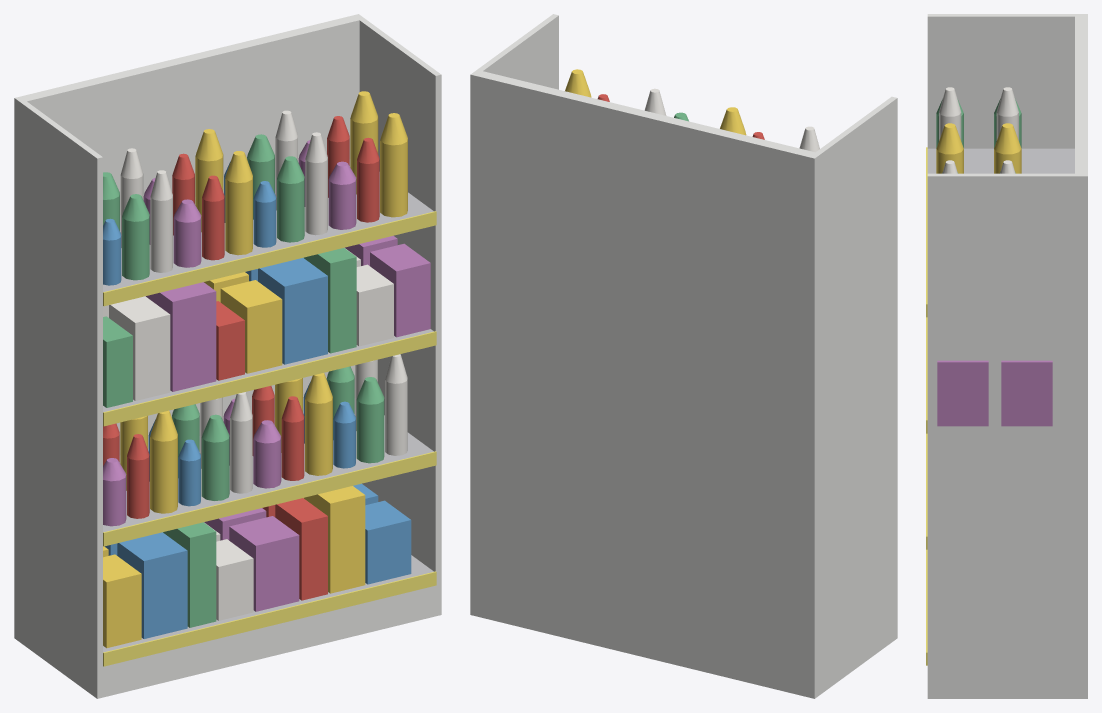
The model's file is gondola.glb.
3 renders of one model, left to right at view 1: azimuth 30°, elevation 25°; view 2: azimuth 150°, elevation 25°; view 3: azimuth 270°, elevation 25°, orthographic. The views are drawn at different scales.
Parts seen in each view (by area): view 1: tint_body, prod_1, prod_5, prod_3, prod_4, tint_strip, prod_2, prod_0, metal; view 2: tint_body, prod_1, prod_4; view 3: tint_body, prod_5, metal, prod_1, prod_4, tint_strip, prod_3.
Part boxes in pixels (<box>): tint_body: <box>14,14,441,698</box>; prod_1: <box>103,91,407,648</box>; prod_5: <box>103,140,430,611</box>; prod_3: <box>103,134,384,627</box>; prod_4: <box>103,110,407,620</box>; tint_strip: <box>103,211,436,666</box>; prod_2: <box>103,161,411,638</box>; prod_0: <box>103,116,379,600</box>; metal: <box>103,159,433,652</box>; tint_body: <box>470,14,897,698</box>; prod_1: <box>565,69,746,135</box>; prod_4: <box>644,88,819,152</box>; tint_body: <box>927,14,1087,698</box>; prod_5: <box>937,360,1052,426</box>; metal: <box>927,148,1074,173</box>; prod_1: <box>936,123,1021,173</box>; prod_4: <box>939,87,1018,173</box>; tint_strip: <box>926,147,927,665</box>; prod_3: <box>936,99,1021,173</box>.
Size of the model in its own units: 1.21 by 1.8 by 0.505.
